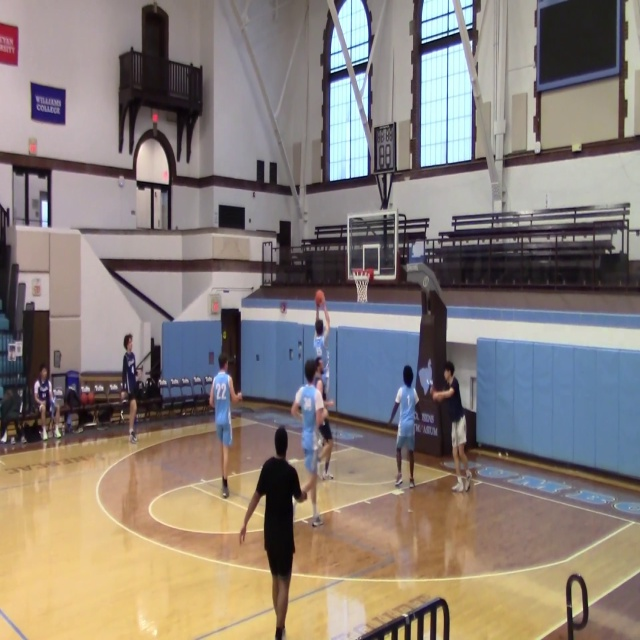Basketball: (314, 290, 324, 306)
